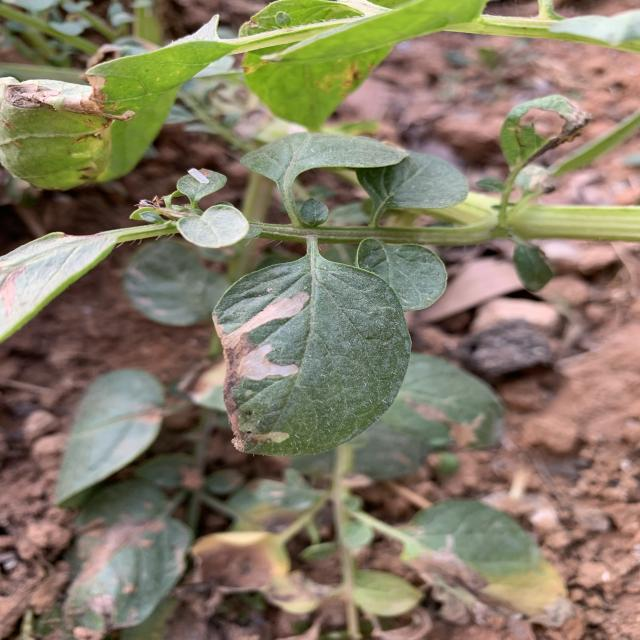lateblight: (213, 291, 310, 451)
